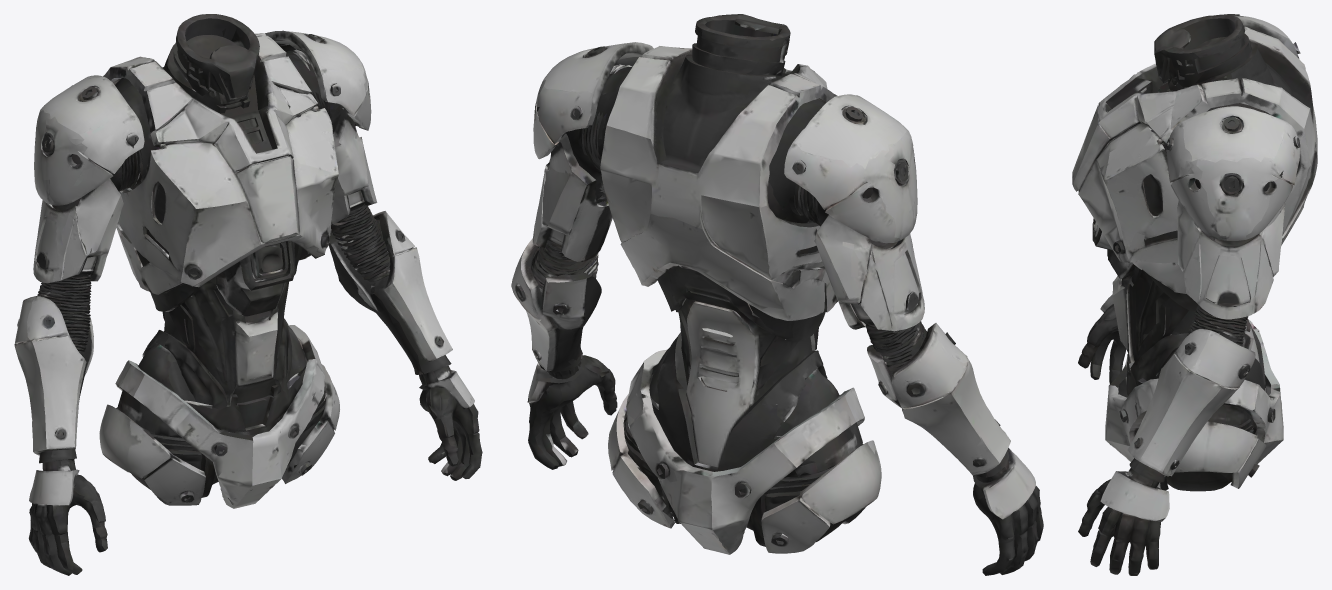
3 renders of one model, left to right at view 1: azimuth 30°, elevation 25°; view 2: azimuth 150°, elevation 25°; view 3: azimuth 270°, elevation 25°, orthographic. The views are drawn at different scales.
Visible parts, largest first — view 1: temp_mesh.ply; view 2: temp_mesh.ply; view 3: temp_mesh.ply.
Boxes of the visible parts, x1,y1,x2,y2 form: temp_mesh.ply: (14, 14, 482, 575); temp_mesh.ply: (511, 14, 1043, 575); temp_mesh.ply: (1072, 14, 1317, 575).
Bounding box in the file's own units: 1.41 × 1.44 × 0.6988.
Materials: 1 (1 with a texture image).
